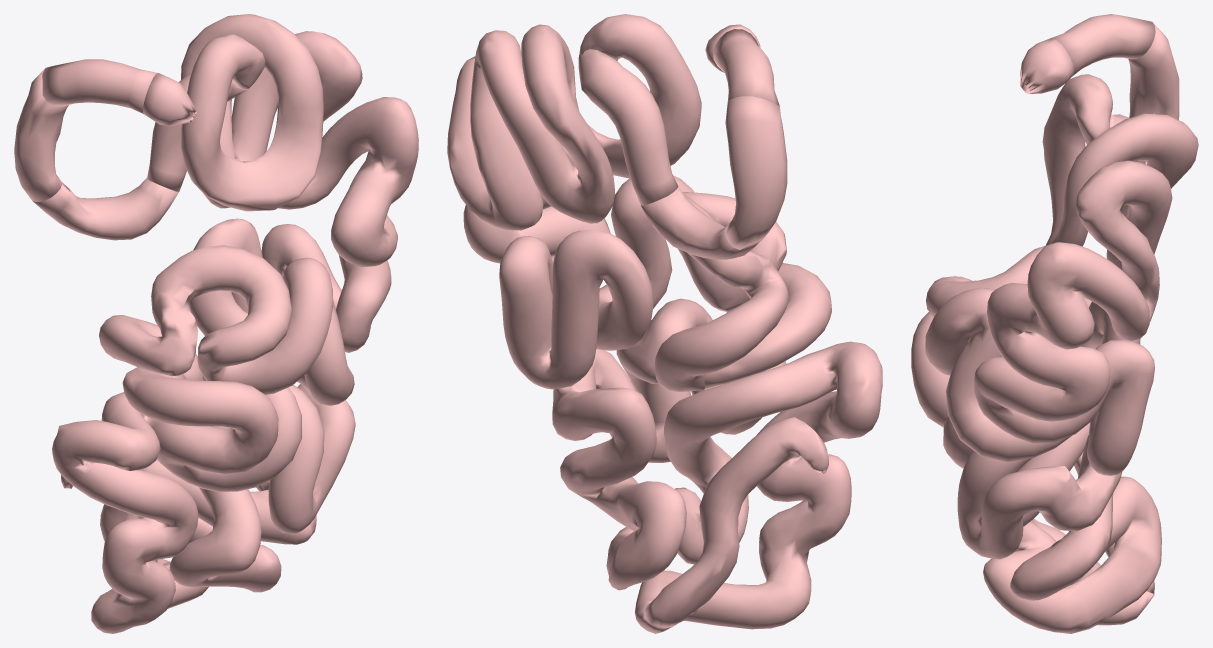
File: vh_m_small_intestine-80.glb
3 renders of one model, left to right at view 1: azimuth 30°, elevation 25°; view 2: azimuth 150°, elevation 25°; view 3: azimuth 270°, elevation 25°, orthographic. The views are drawn at different scales.
Parts seen in each view (by area): view 1: VH_M_jejunum, VH_M_ileum, VH_M_duodenum_horizonal, VH_M_duodenum_superior, VH_M_duodenum_descending, VH_M_duodenum_ascending, VH_M_duodenal_ampulla, VH_M_ileum_terminal; view 2: VH_M_jejunum, VH_M_ileum, VH_M_ileum_terminal, VH_M_duodenum_descending, VH_M_duodenum_ascending, VH_M_duodenum_horizonal, VH_M_duodenum_superior; view 3: VH_M_jejunum, VH_M_ileum, VH_M_duodenum_superior, VH_M_duodenum_descending, VH_M_duodenal_ampulla.
Part boxes in pixels (bbox=[...]): VH_M_jejunum: bbox=[99, 14, 418, 405]; VH_M_ileum: bbox=[52, 367, 355, 633]; VH_M_duodenum_horizonal: bbox=[33, 178, 178, 240]; VH_M_duodenum_superior: bbox=[42, 59, 157, 113]; VH_M_duodenum_descending: bbox=[14, 69, 70, 202]; VH_M_duodenum_ascending: bbox=[147, 73, 246, 191]; VH_M_duodenal_ampulla: bbox=[143, 73, 196, 125]; VH_M_ileum_terminal: bbox=[61, 469, 157, 561]; VH_M_jejunum: bbox=[447, 14, 788, 392]; VH_M_ileum: bbox=[552, 263, 882, 633]; VH_M_ileum_terminal: bbox=[644, 417, 828, 627]; VH_M_duodenum_descending: bbox=[725, 96, 787, 249]; VH_M_duodenum_ascending: bbox=[578, 49, 678, 205]; VH_M_duodenum_horizonal: bbox=[641, 187, 762, 259]; VH_M_duodenum_superior: bbox=[713, 29, 779, 105]; VH_M_jejunum: bbox=[925, 74, 1198, 475]; VH_M_ileum: bbox=[911, 312, 1161, 633]; VH_M_duodenum_superior: bbox=[1052, 14, 1155, 77]; VH_M_duodenum_descending: bbox=[1128, 23, 1179, 119]; VH_M_duodenal_ampulla: bbox=[1019, 38, 1074, 93].
Bounding box in the file's own units: 0.1879 × 0.2654 × 0.1222.
